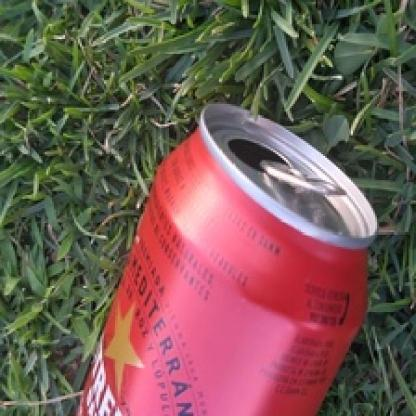Can: (72, 101, 378, 416)
